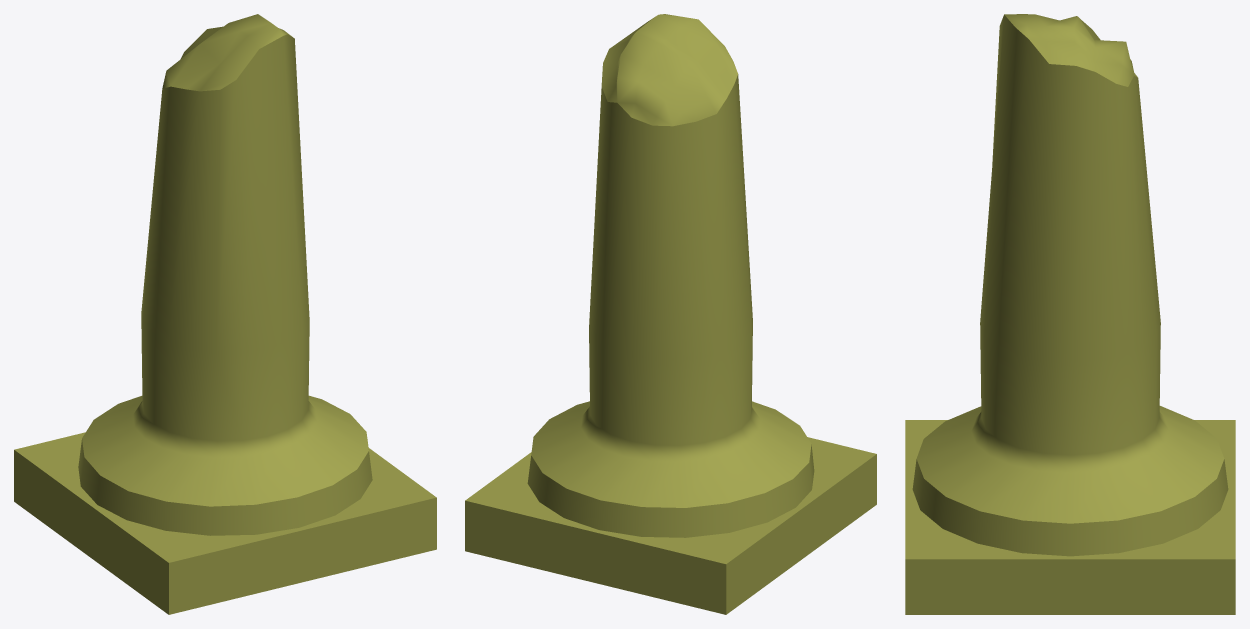
The model's file is Collumn_2_Low.fbx.
The picture shows the model from 3 angles, left to right: view 1: azimuth 30°, elevation 25°; view 2: azimuth 150°, elevation 25°; view 3: azimuth 270°, elevation 25°; orthographic projection. The views are drawn at different scales.
Parts seen in each view (by area): view 1: Collumn_2_Low, Base_2_Low; view 2: Collumn_2_Low, Base_2_Low; view 3: Collumn_2_Low, Base_2_Low.
Part boxes in pixels (<box>): Collumn_2_Low: <box>78,14,372,535</box>; Base_2_Low: <box>14,432,436,614</box>; Collumn_2_Low: <box>527,14,814,537</box>; Base_2_Low: <box>465,437,876,614</box>; Collumn_2_Low: <box>912,14,1228,556</box>; Base_2_Low: <box>905,420,1235,614</box>.
Size of the model in its own units: 3.91 by 7.03 by 3.91.
